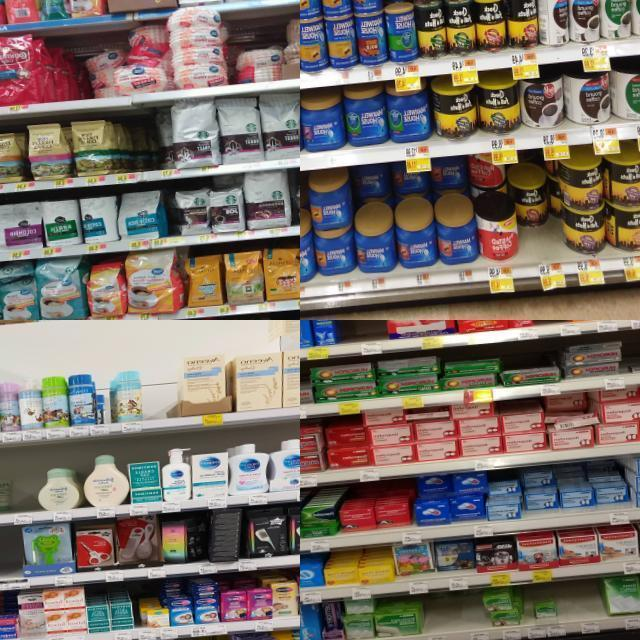Imprecise: (351, 160, 478, 266), (510, 164, 564, 268), (474, 156, 518, 262), (546, 394, 601, 451), (520, 466, 560, 518), (84, 50, 126, 99), (561, 488, 634, 514), (164, 580, 194, 627), (487, 480, 522, 520), (0, 477, 14, 515)
